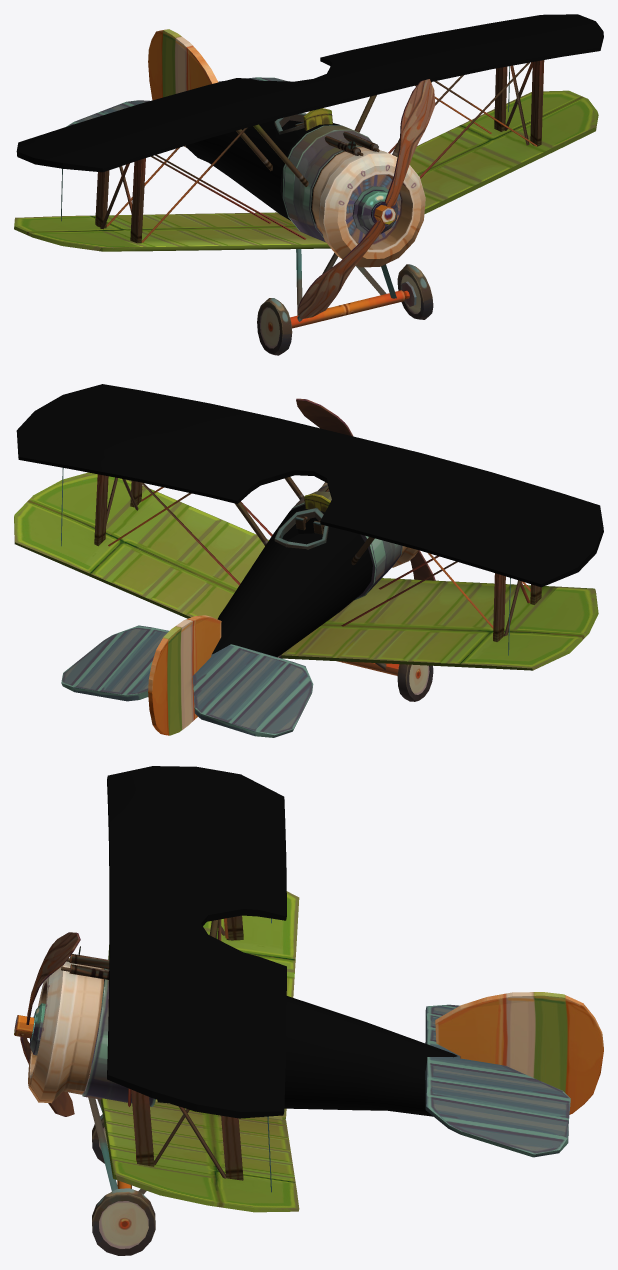
3 renders of one model, top to bottom at view 1: azimuth 30°, elevation 25°; view 2: azimuth 150°, elevation 25°; view 3: azimuth 270°, elevation 25°, orthographic. The views are drawn at different scales.
Visible parts, largest first — view 1: BODY; view 2: BODY; view 3: BODY.
Part boxes in pixels (x1,y1,x2,y2): BODY: (14,14,603,355); BODY: (14,384,603,737); BODY: (14,766,603,1255).
Size of the model in its own units: 2.88 by 1.25 by 2.13.
Materials: 1 (1 with a texture image).
